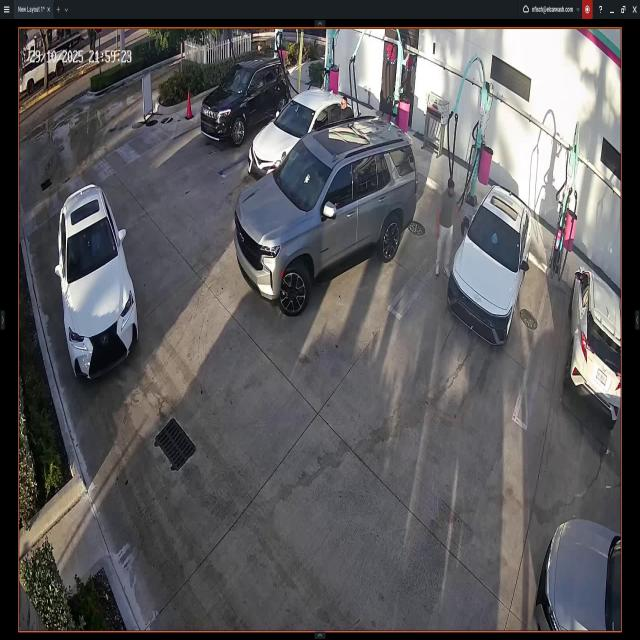Car: (234, 125, 416, 318), (58, 182, 140, 385), (450, 184, 530, 342), (245, 89, 362, 175), (534, 510, 616, 632), (204, 58, 288, 144), (572, 279, 622, 422)
